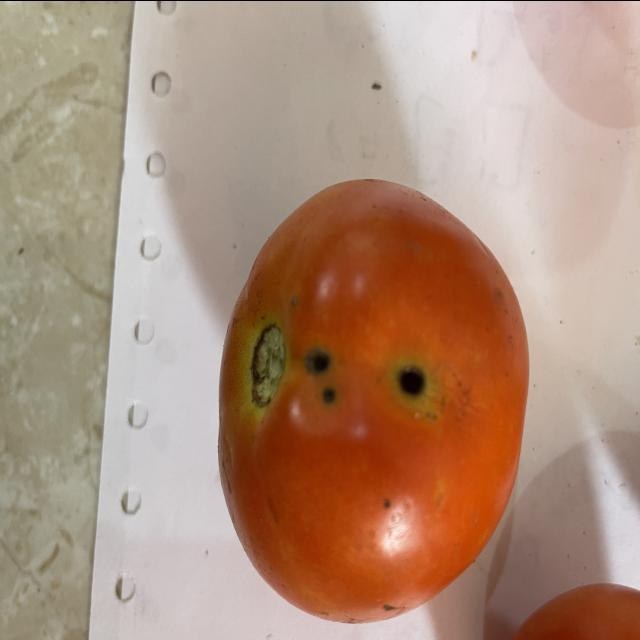fruitworm_bore: (300, 338, 350, 408), (388, 353, 432, 408)
